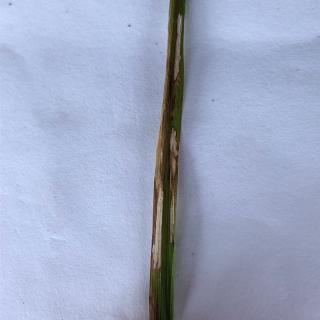Hawar-Daun: (151, 98, 167, 272), (168, 127, 175, 246), (172, 13, 184, 80)
